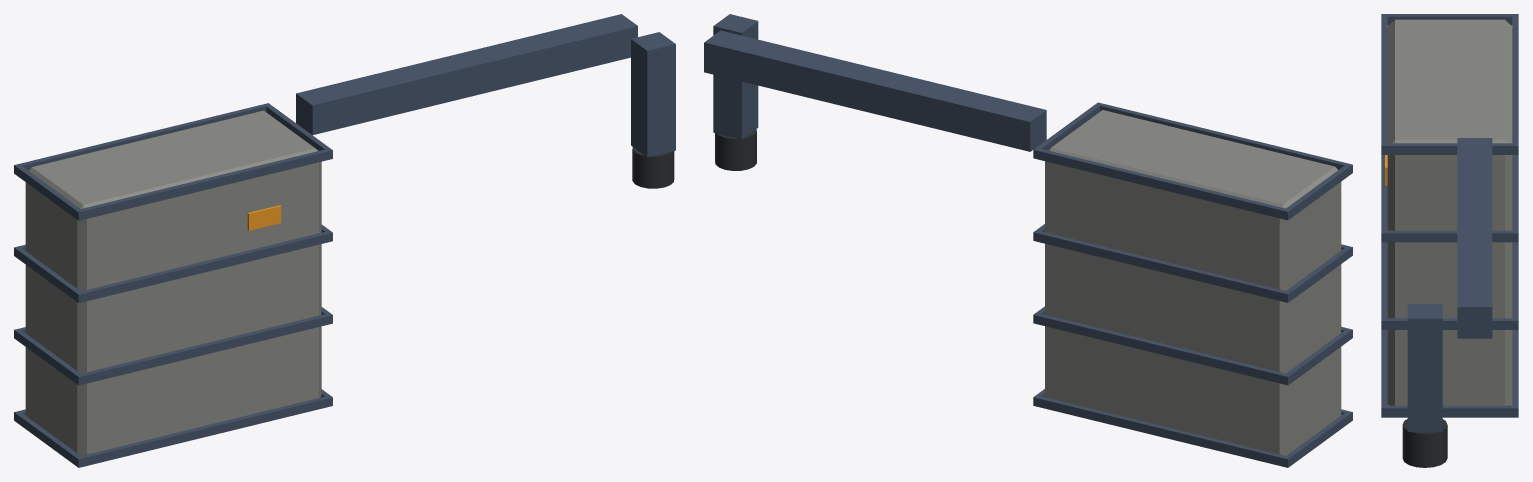
Rendered from ak1_charger.obj.
3 views of the same model, side by side, from view 1: azimuth 30°, elevation 25°; view 2: azimuth 150°, elevation 25°; view 3: azimuth 270°, elevation 25° (orthographic). The views are drawn at different scales.
Parts seen in each view (by area): view 1: ak1_charger; view 2: ak1_charger; view 3: ak1_charger.
Part boxes in pixels (left/top/right/bottom): ak1_charger: left=14, top=14, right=675, bottom=467; ak1_charger: left=704, top=14, right=1352, bottom=467; ak1_charger: left=1381, top=14, right=1518, bottom=467.
Size of the model in its own units: 3.02 by 1.27 by 0.55.
